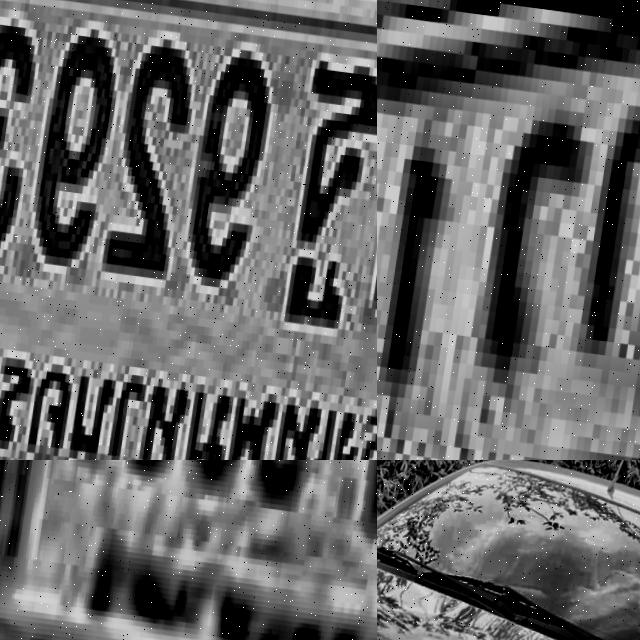license-plate: (0, 0, 377, 460), (377, 0, 640, 460), (0, 460, 377, 640)
